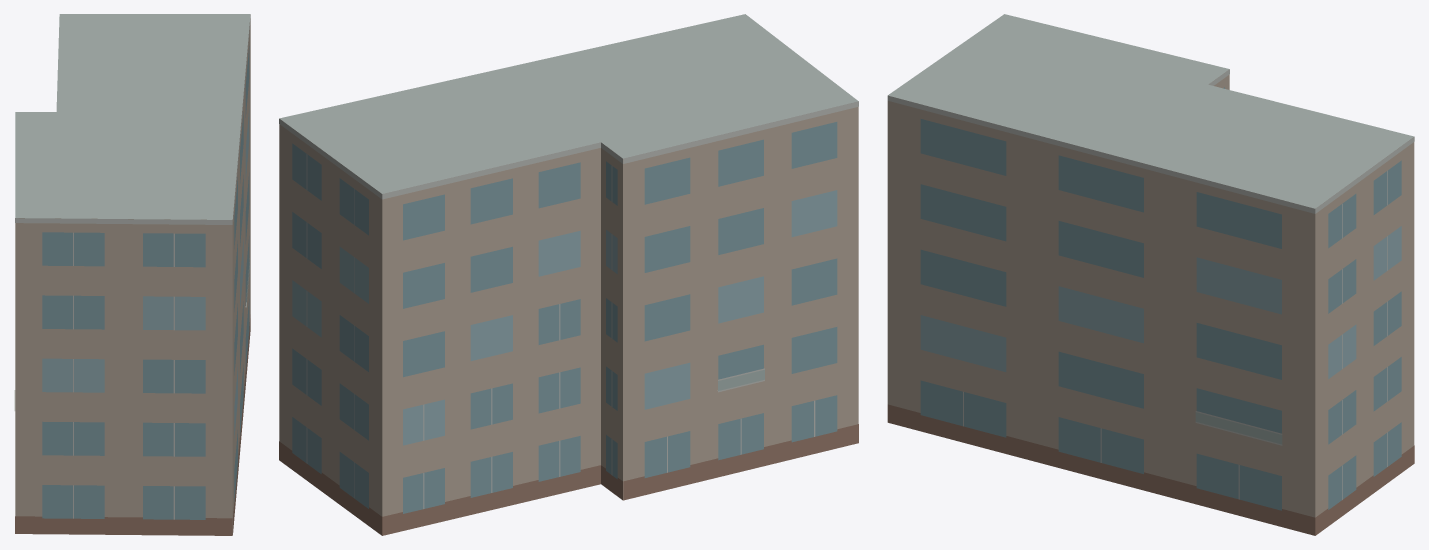
The model's file is survey-upis-32671172.glb.
3 renders of one model, left to right at view 1: azimuth 30°, elevation 25°; view 2: azimuth 150°, elevation 25°; view 3: azimuth 270°, elevation 25°, orthographic. The views are drawn at different scales.
Visible parts, largest first — view 1: survey-upis-32671172.tmp; view 2: survey-upis-32671172.tmp; view 3: survey-upis-32671172.tmp.
Part boxes in pixels (x1,y1,x2,y2): survey-upis-32671172.tmp: (14,14,250,535); survey-upis-32671172.tmp: (279,14,858,535); survey-upis-32671172.tmp: (887,14,1414,535).
Bounding box in the file's own units: 19.55 × 15.3 × 22.34.
